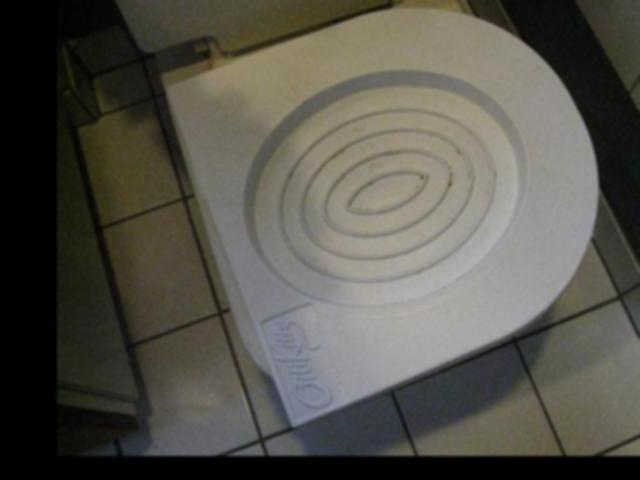Sanitario: (135, 0, 635, 431)
